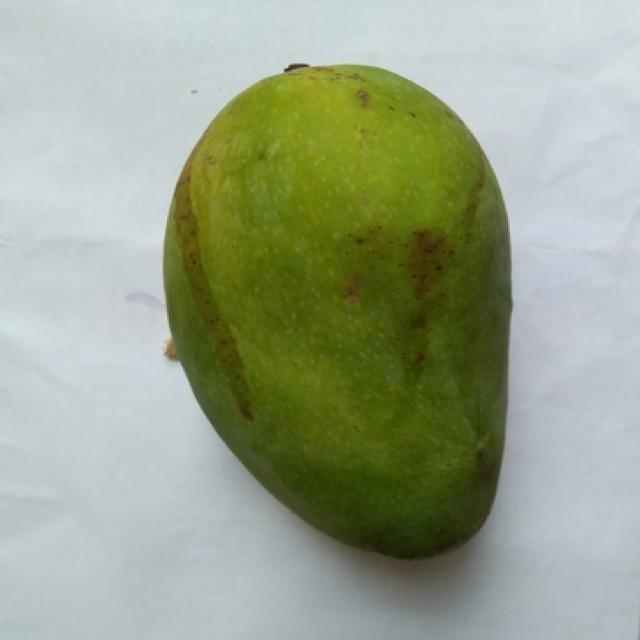Mango: (164, 65, 510, 557)
